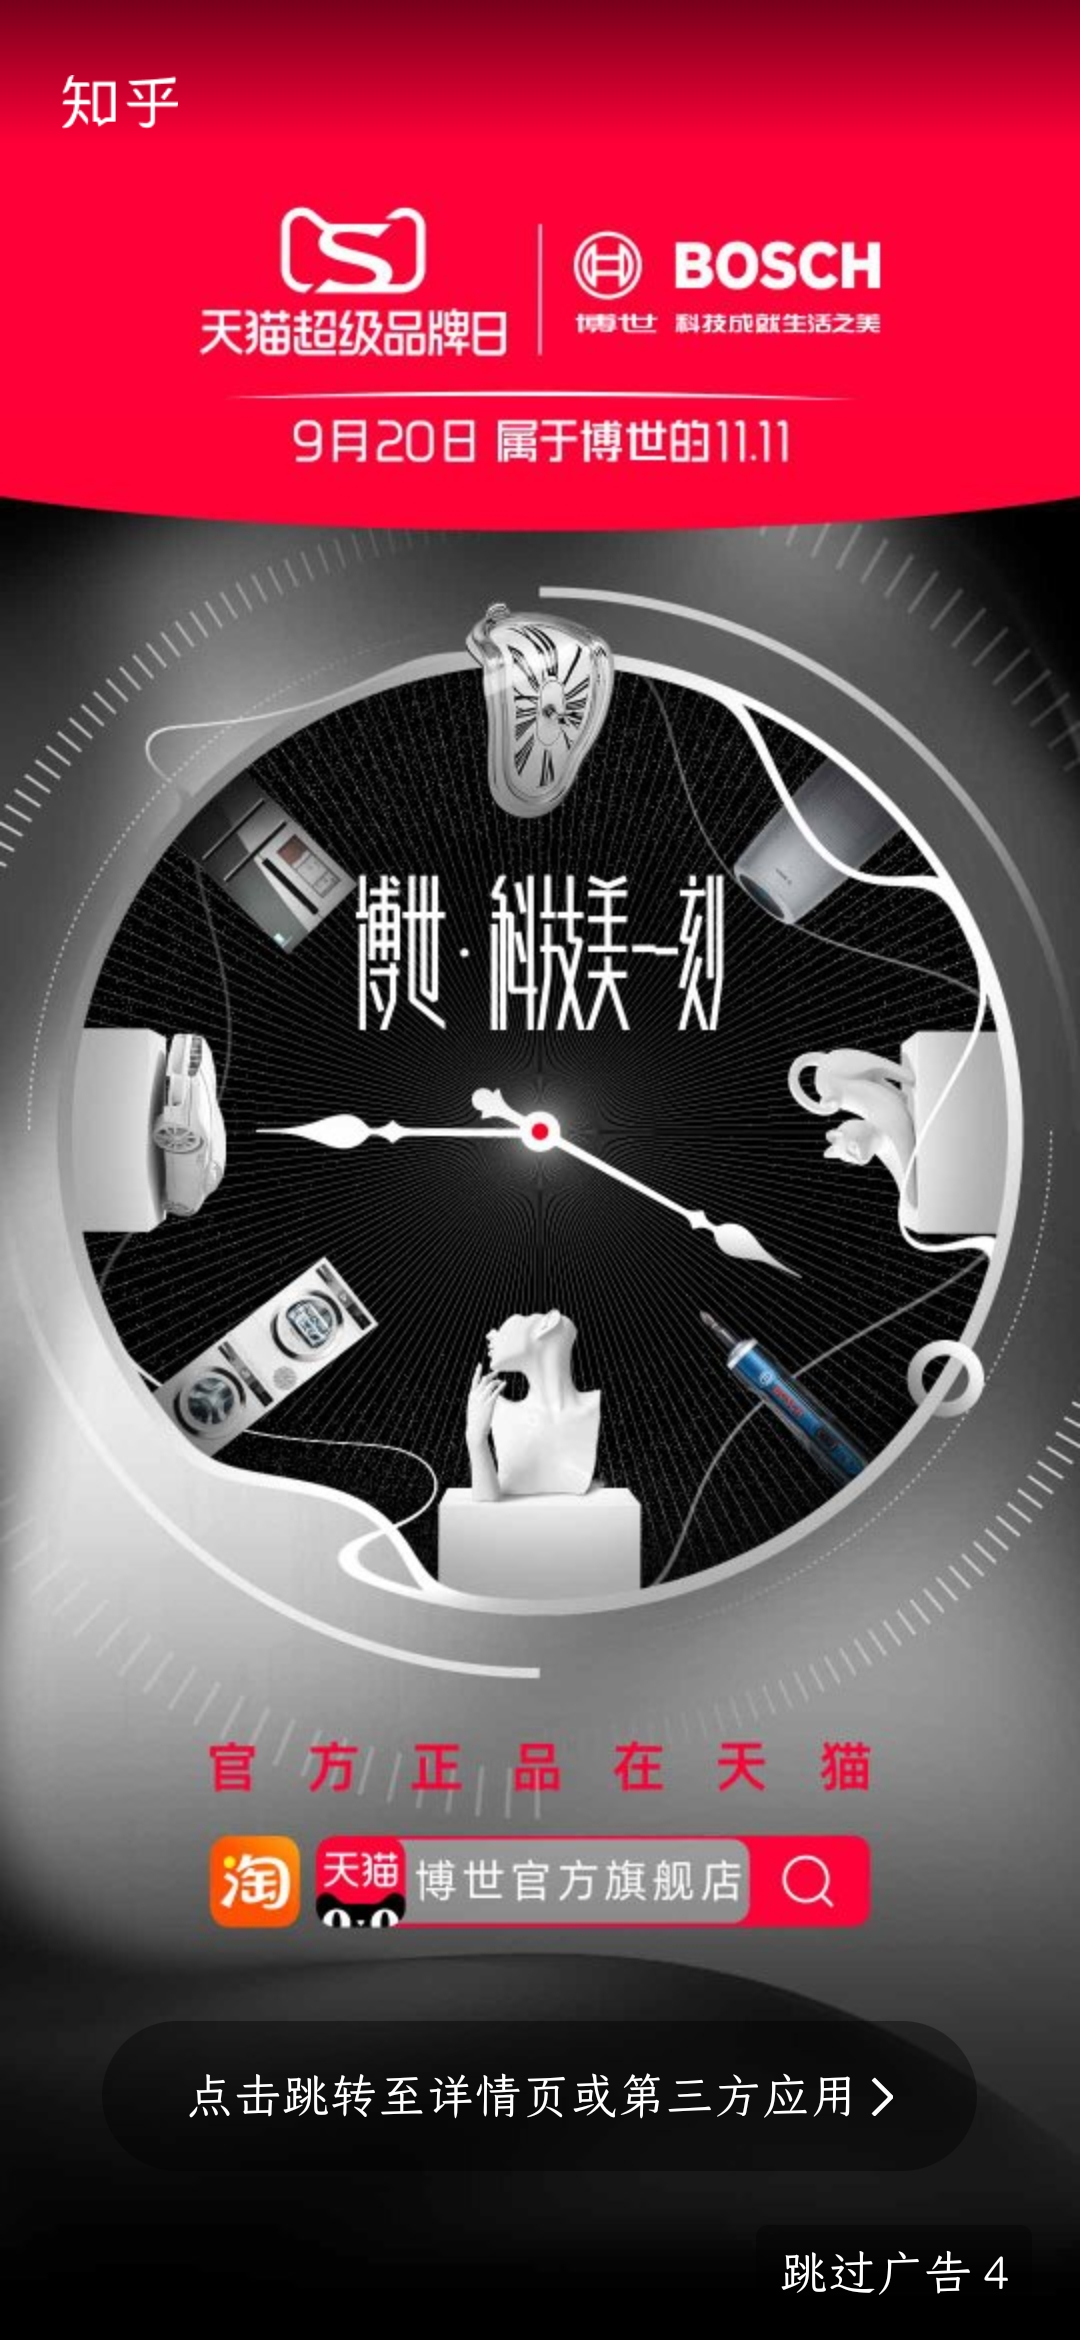skip: (770, 2242, 1032, 2306)
